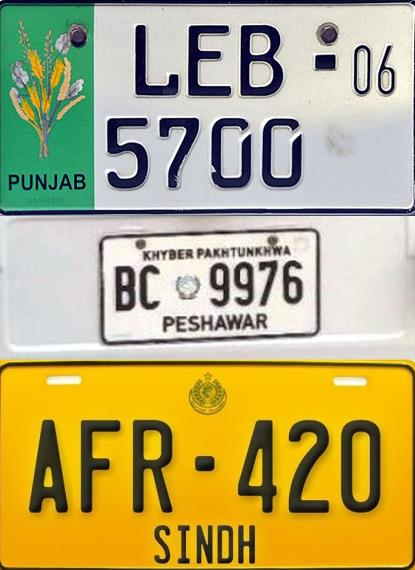license plate: (1, 4, 414, 215), (3, 361, 410, 568), (99, 234, 322, 336)
